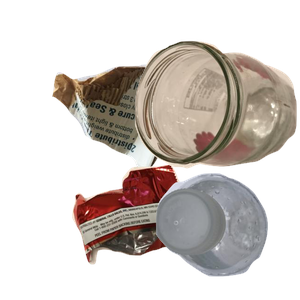cardboard: (50, 62, 228, 226)
glass: (132, 38, 300, 199)
plastic: (153, 170, 300, 300)
trash: (70, 162, 257, 300)
